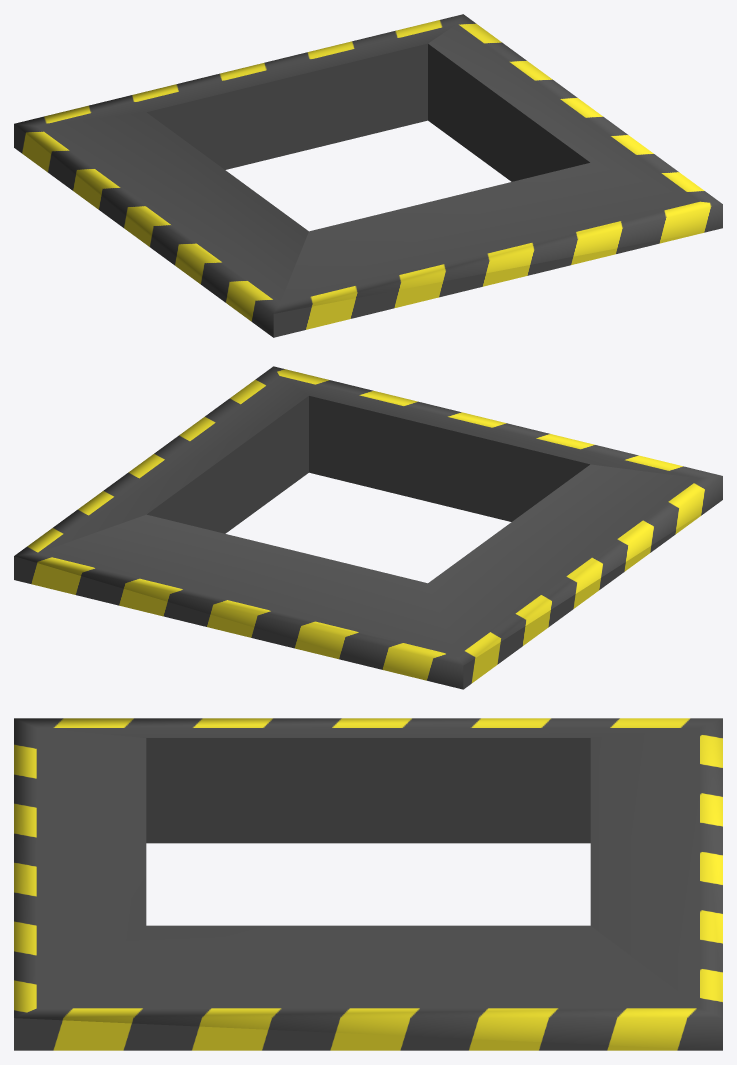
File: podloga zute linije sa rupom 1.fbx
3 renders of one model, top to bottom at view 1: azimuth 30°, elevation 25°; view 2: azimuth 150°, elevation 25°; view 3: azimuth 270°, elevation 25°, orthographic. The views are drawn at different scales.
Parts seen in each view (by area): view 1: ploca_za_ispod_lvla; view 2: ploca_za_ispod_lvla; view 3: ploca_za_ispod_lvla.
Part boxes in pixels (<box>): ploca_za_ispod_lvla: <box>14,14,722,337</box>; ploca_za_ispod_lvla: <box>14,366,722,689</box>; ploca_za_ispod_lvla: <box>14,718,722,1050</box>.
Size of the model in its own units: 641 by 105 by 641.
